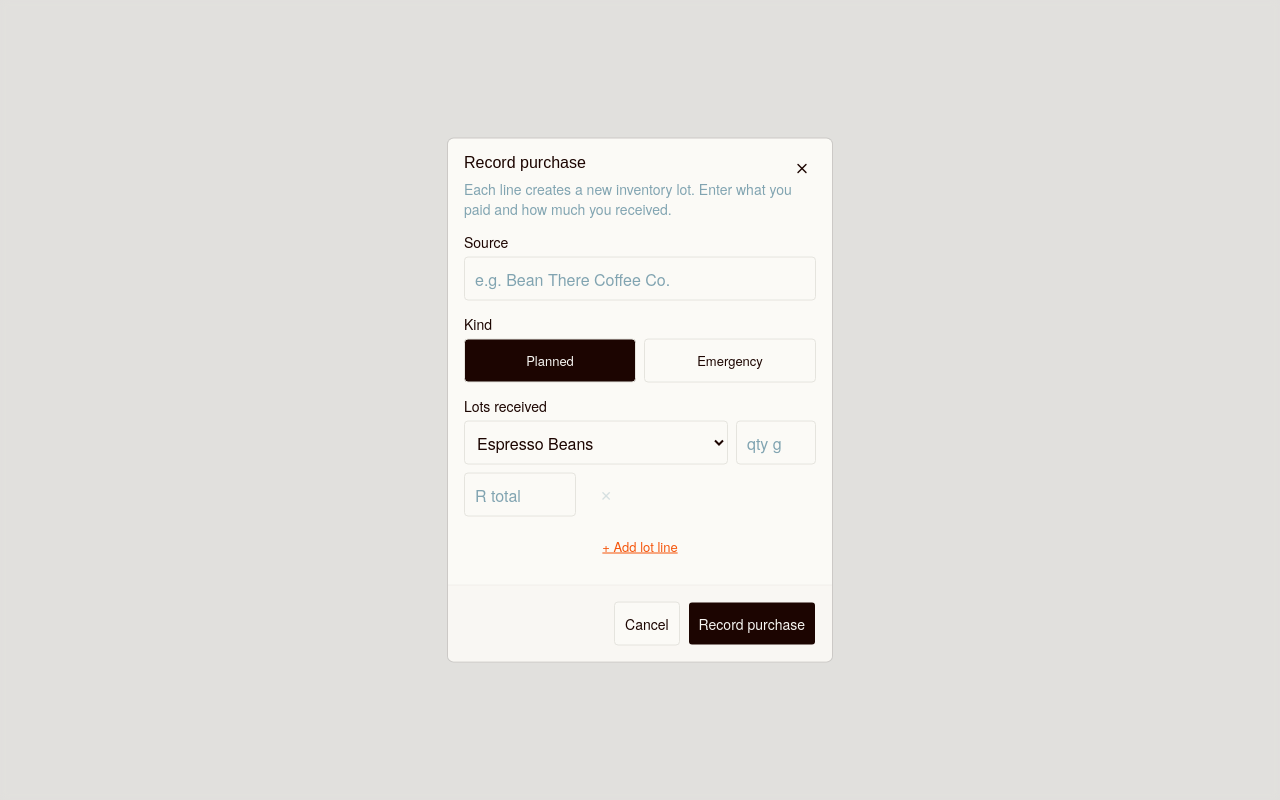
PurchaseForm › shows the derived cost per g next to the inputs: R225 for 500 g = R0.4500 (45.0000 c)
Type "500" into the field named "Line 1 quantity (g)" at (776,442), box [736, 420, 816, 464]
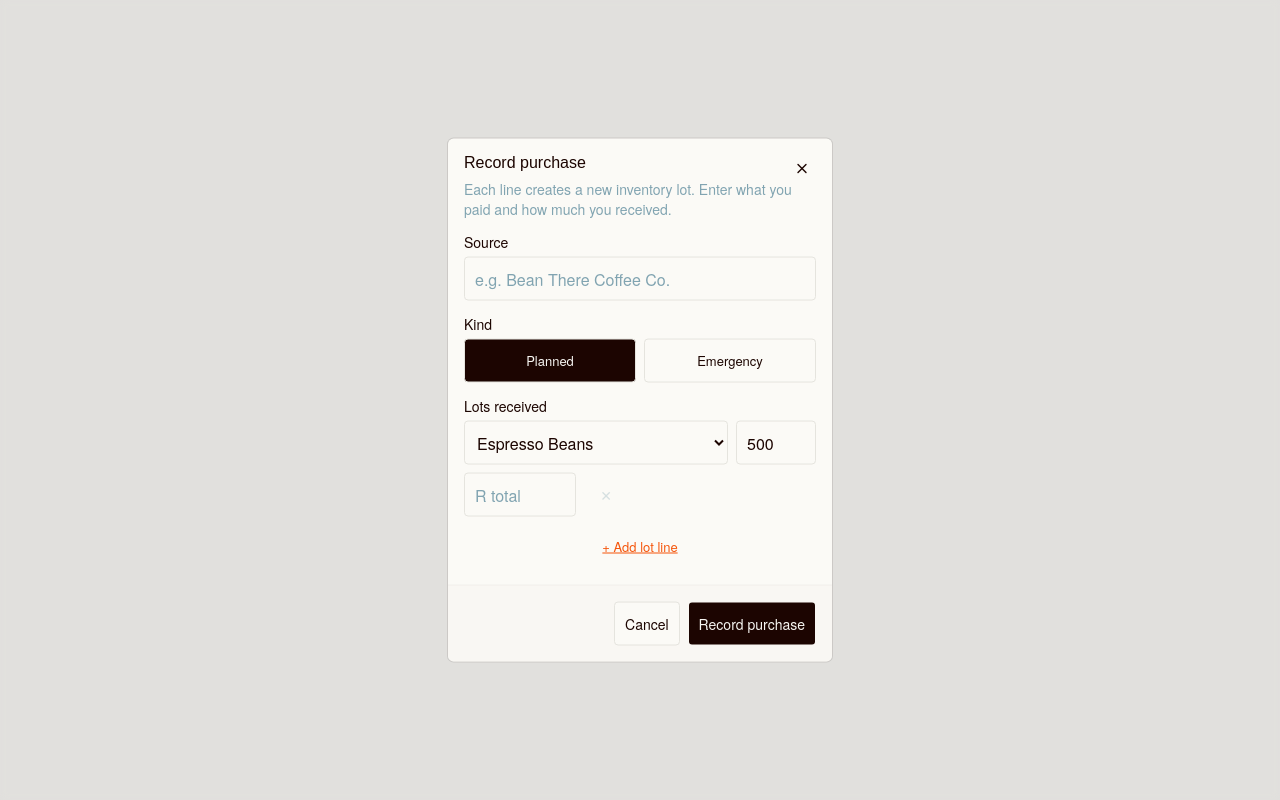
Type "225" into the field named "Line 1 total paid (R)" at (520,494), box [464, 472, 576, 516]
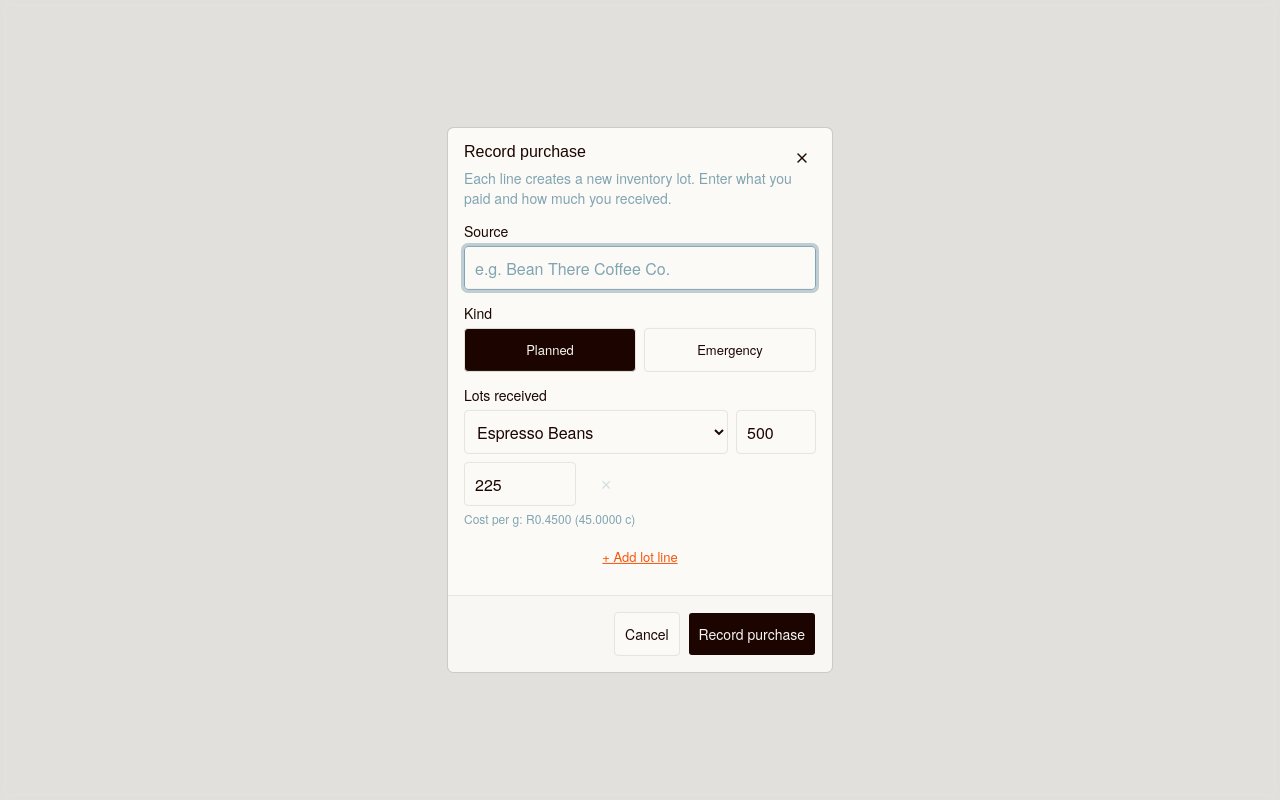
Expected: the text with test id "line-1-unit-cost" reads "Cost per g: R0.4500 (45.0000 c)", [464, 510, 635, 527]
